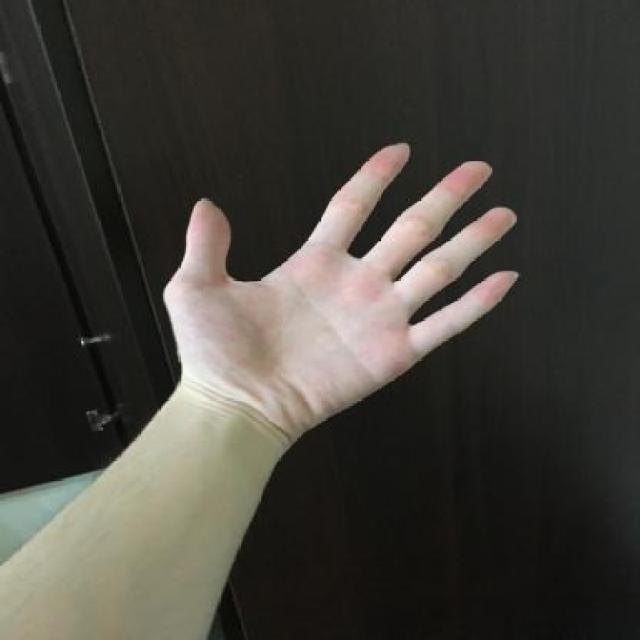bare_hand: (160, 134, 531, 451)
